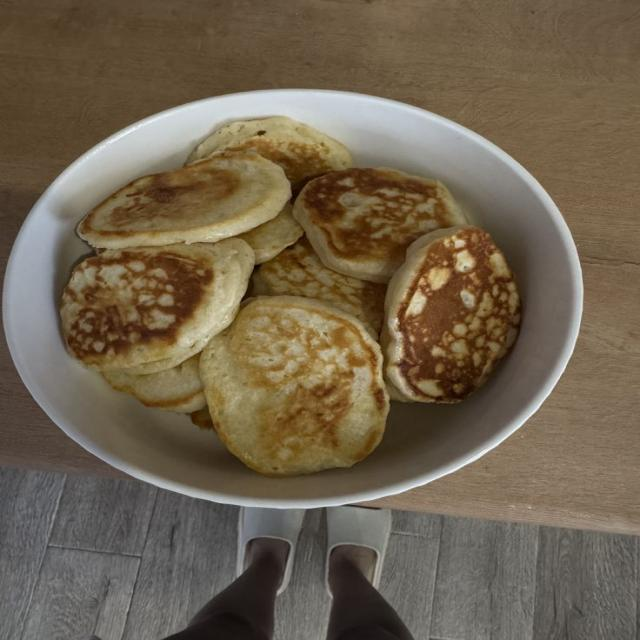pancake: (201, 297, 388, 475), (61, 239, 253, 369), (382, 227, 519, 403), (78, 152, 290, 248), (294, 169, 466, 283), (252, 239, 386, 337), (187, 117, 353, 191), (103, 355, 206, 413), (239, 203, 303, 264), (190, 406, 214, 430)
